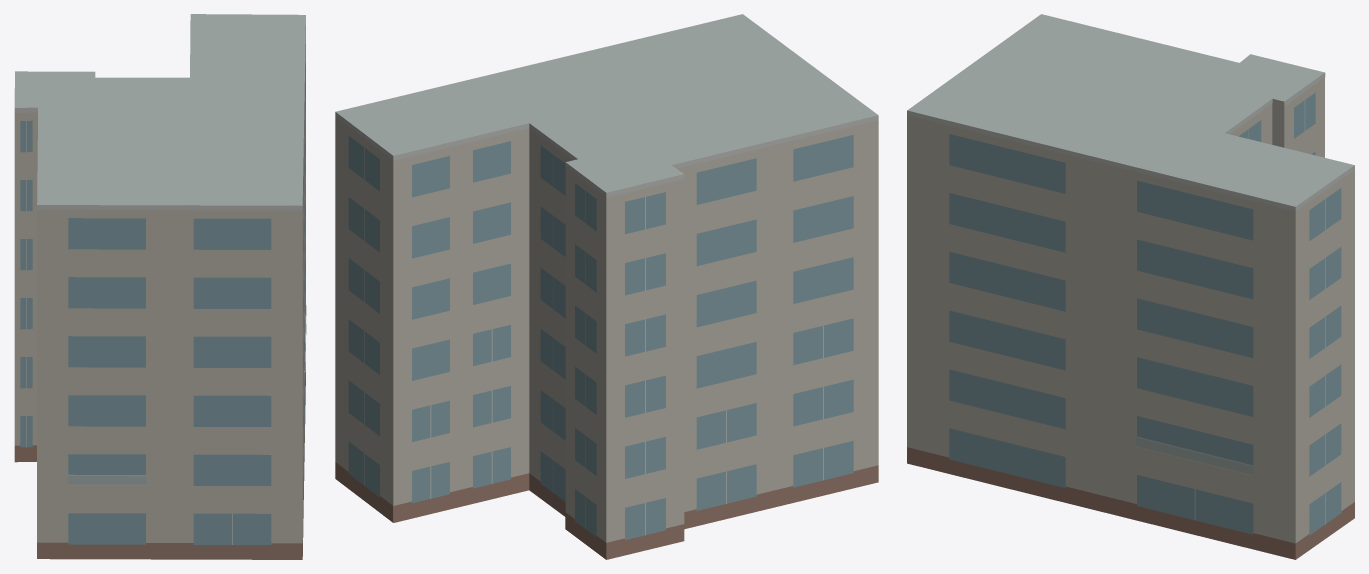
File: survey-upis-32973565.glb
3 views of the same model, side by side, from view 1: azimuth 30°, elevation 25°; view 2: azimuth 150°, elevation 25°; view 3: azimuth 270°, elevation 25° (orthographic). The views are drawn at different scales.
Visible parts, largest first — view 1: survey-upis-32973565.tmp; view 2: survey-upis-32973565.tmp; view 3: survey-upis-32973565.tmp.
Part boxes in pixels (x1,y1,x2,y2): survey-upis-32973565.tmp: (14, 14, 306, 559); survey-upis-32973565.tmp: (335, 14, 878, 559); survey-upis-32973565.tmp: (907, 14, 1354, 559).
Bounding box in the file's own units: 21.45 × 18.3 × 21.04.
